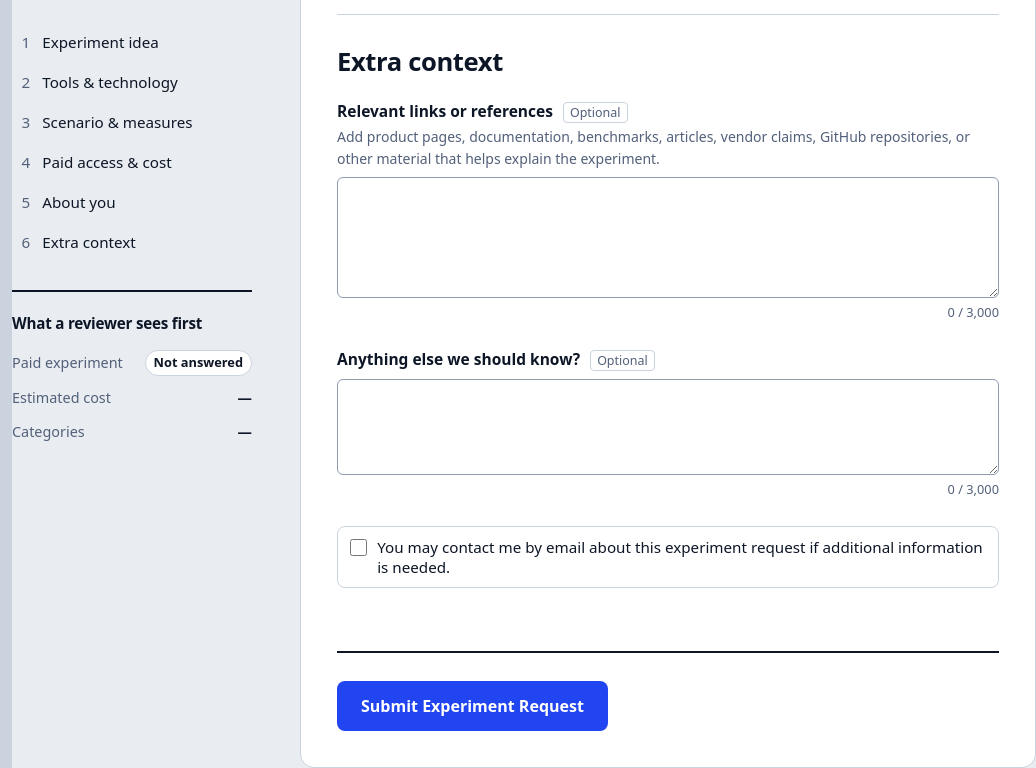
Scenario: required-field validation › blocks an empty submit and shows what is missing
(page scrolled)
What coordinates should you click on to do the following:
click the button "Submit Experiment Request"
I would click on:
 (472, 706)
Its box is [337,681,608,731].
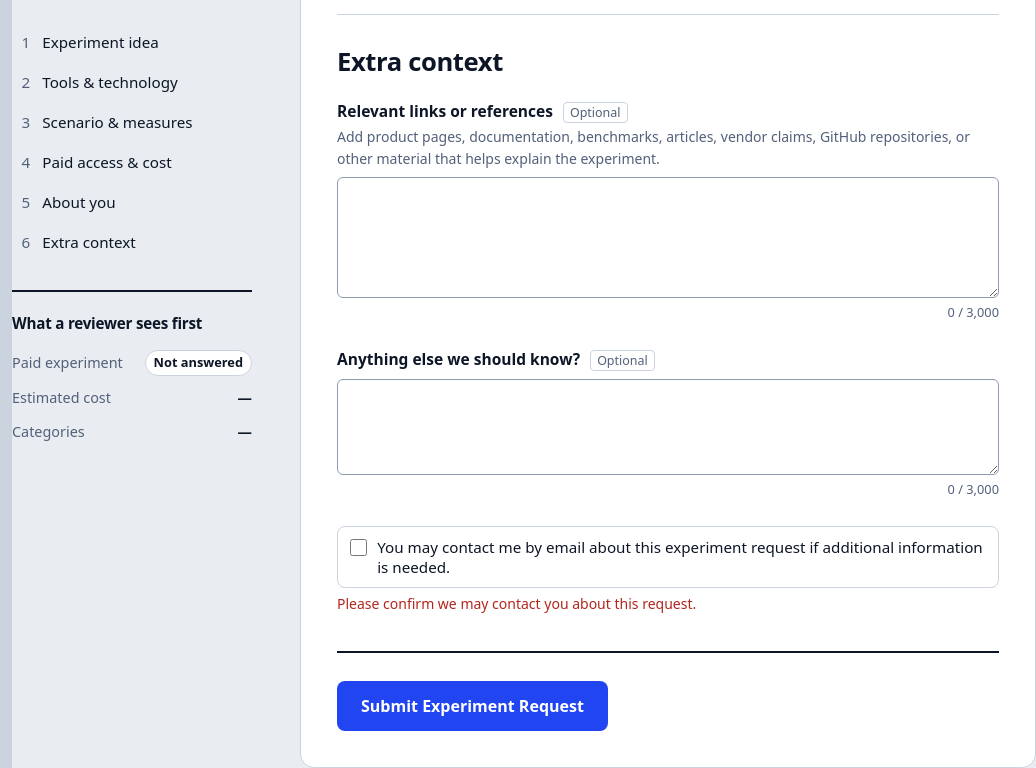
Now the text "Please confirm we may contact you about this request." is shown, box [337,593,696,615]
